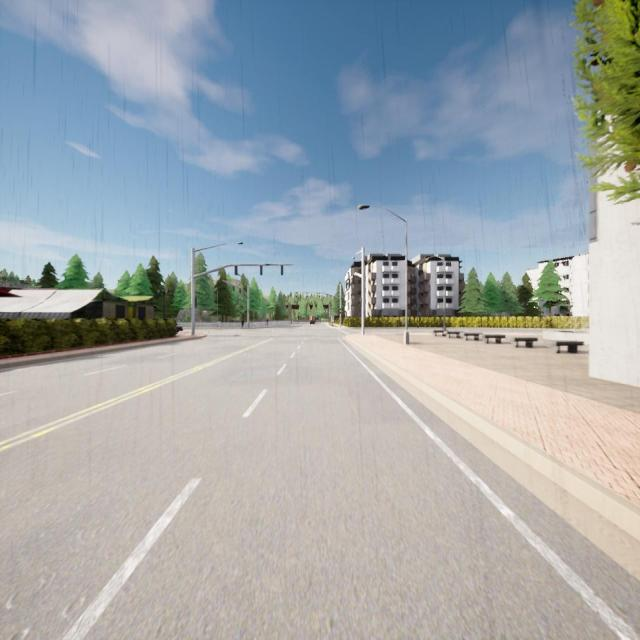Pedestrian: (241, 318, 244, 329), (266, 317, 269, 327)
Vehicle: (176, 323, 183, 332), (310, 319, 315, 325)
traffic_light: (235, 265, 238, 275), (260, 265, 263, 275), (195, 297, 197, 308), (281, 265, 283, 275), (233, 286, 235, 292), (239, 288, 241, 294), (339, 309, 342, 313), (306, 292, 308, 298), (361, 298, 362, 306), (353, 276, 354, 283), (346, 282, 347, 288), (319, 292, 320, 298), (349, 280, 350, 286), (296, 292, 297, 297)
